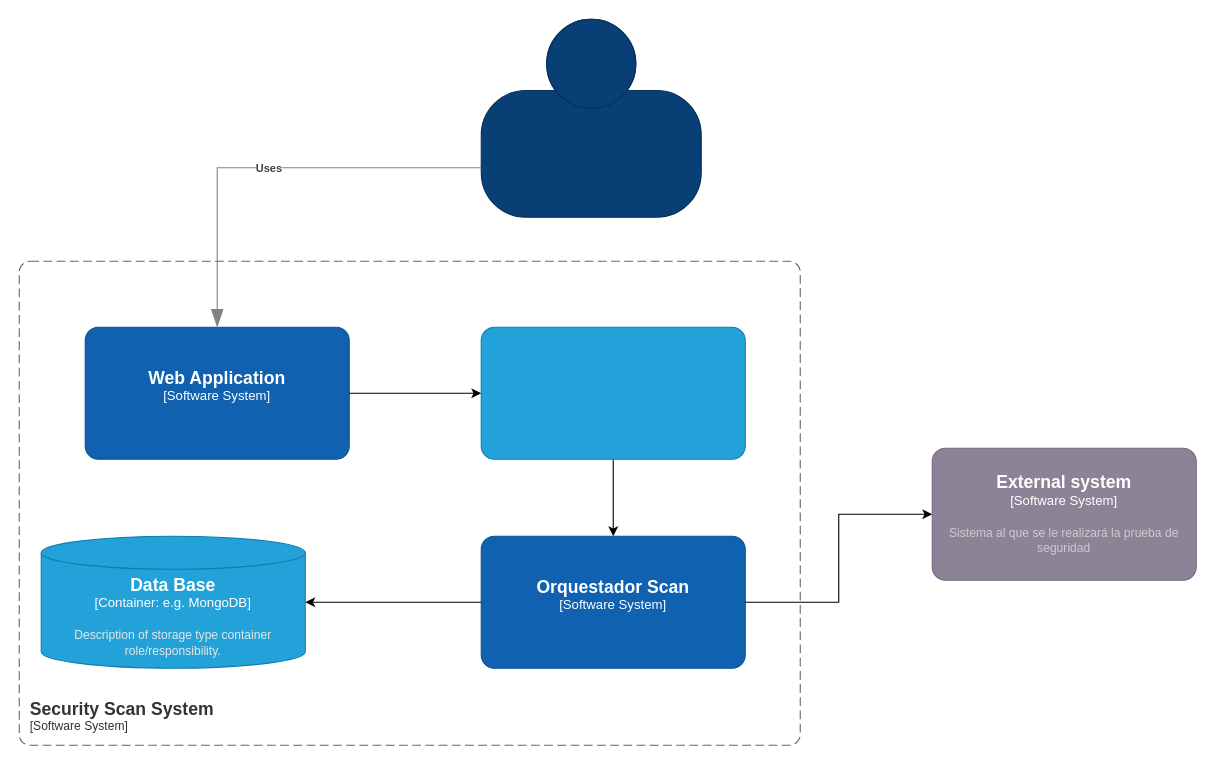
This 1216x765 diagram has some shape labels left out. The centre of each missing label's shape, as x and y in pixels:
"API Application [Container: e.g. Python] Funcionalidad vía HTTPS" goes at point (612, 392).
"QA Analyst [Person]" goes at point (590, 117).
